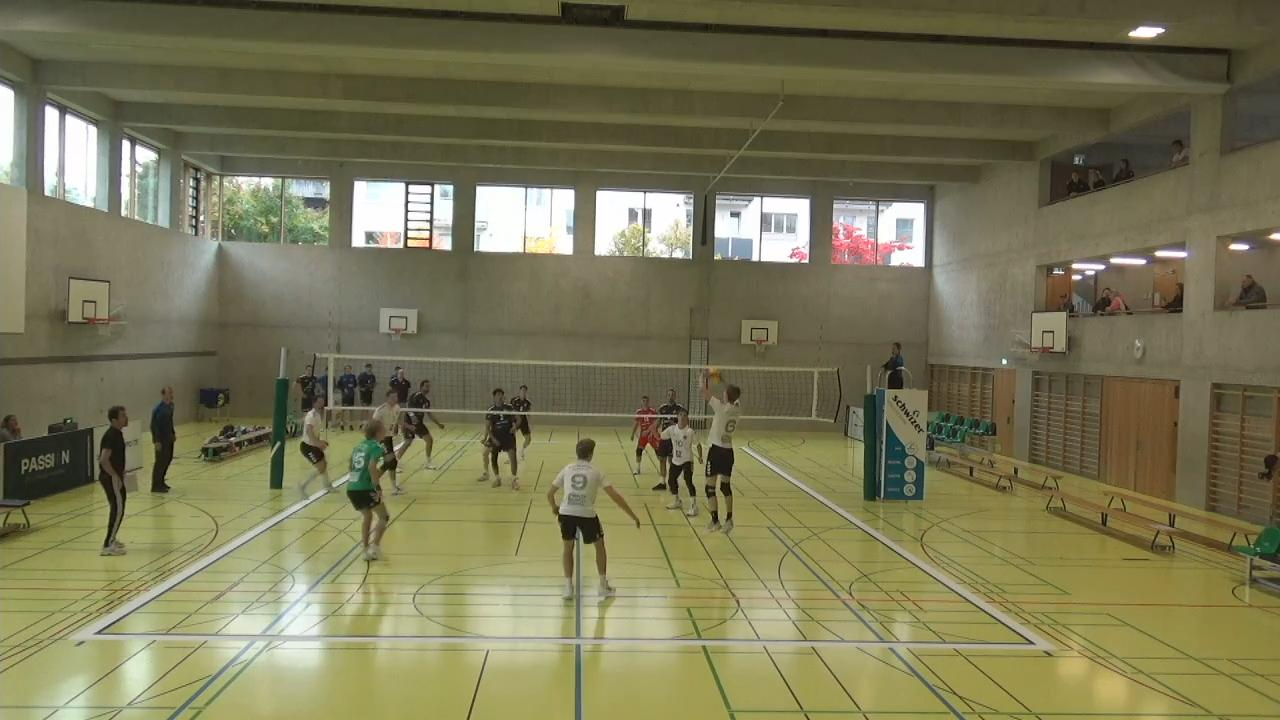alzata: (698, 372, 742, 536)
